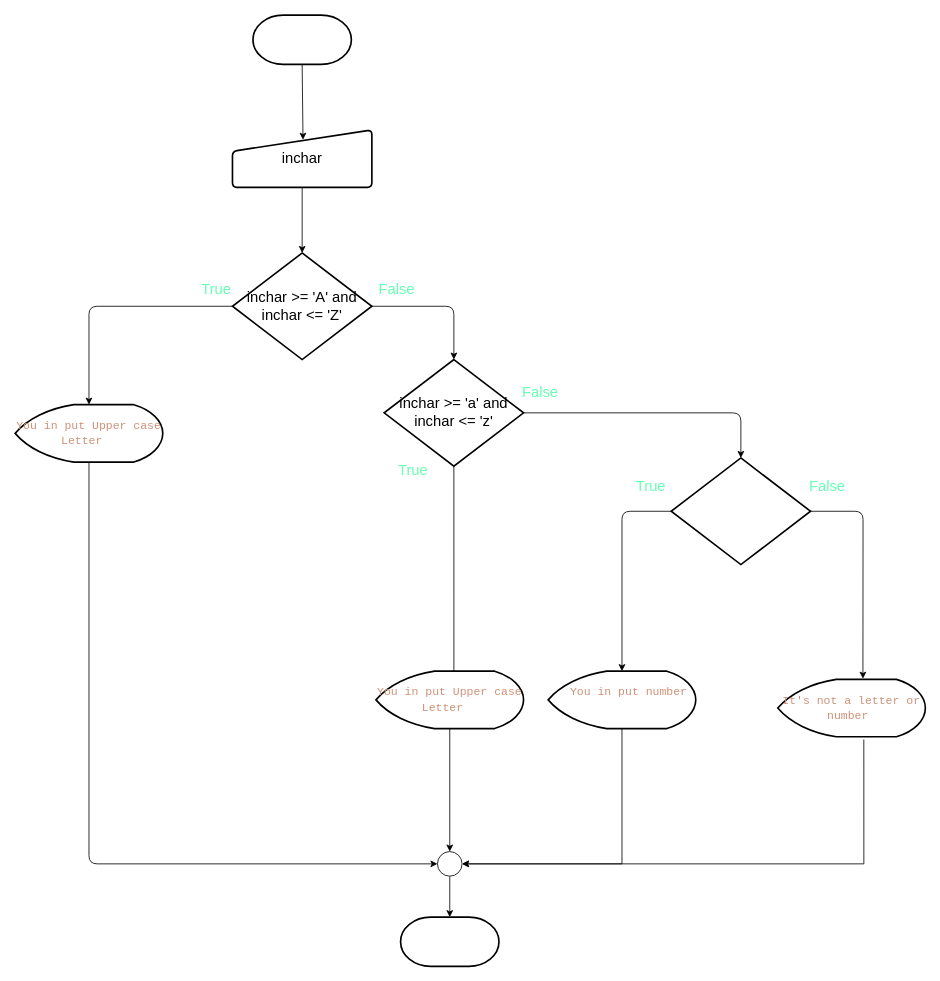
The diagram is 940 pixels wide and 981 high, and some of its shapes have lost their labels. The shapes that lost their labels are listed below. From the top down, each one's box as (x1, y1, x2, y2) in pixels, then its label:
(252, 14, 352, 65): start
(670, 457, 811, 565): inchar >= '1' and inchar <= '9'
(399, 916, 499, 967): End
